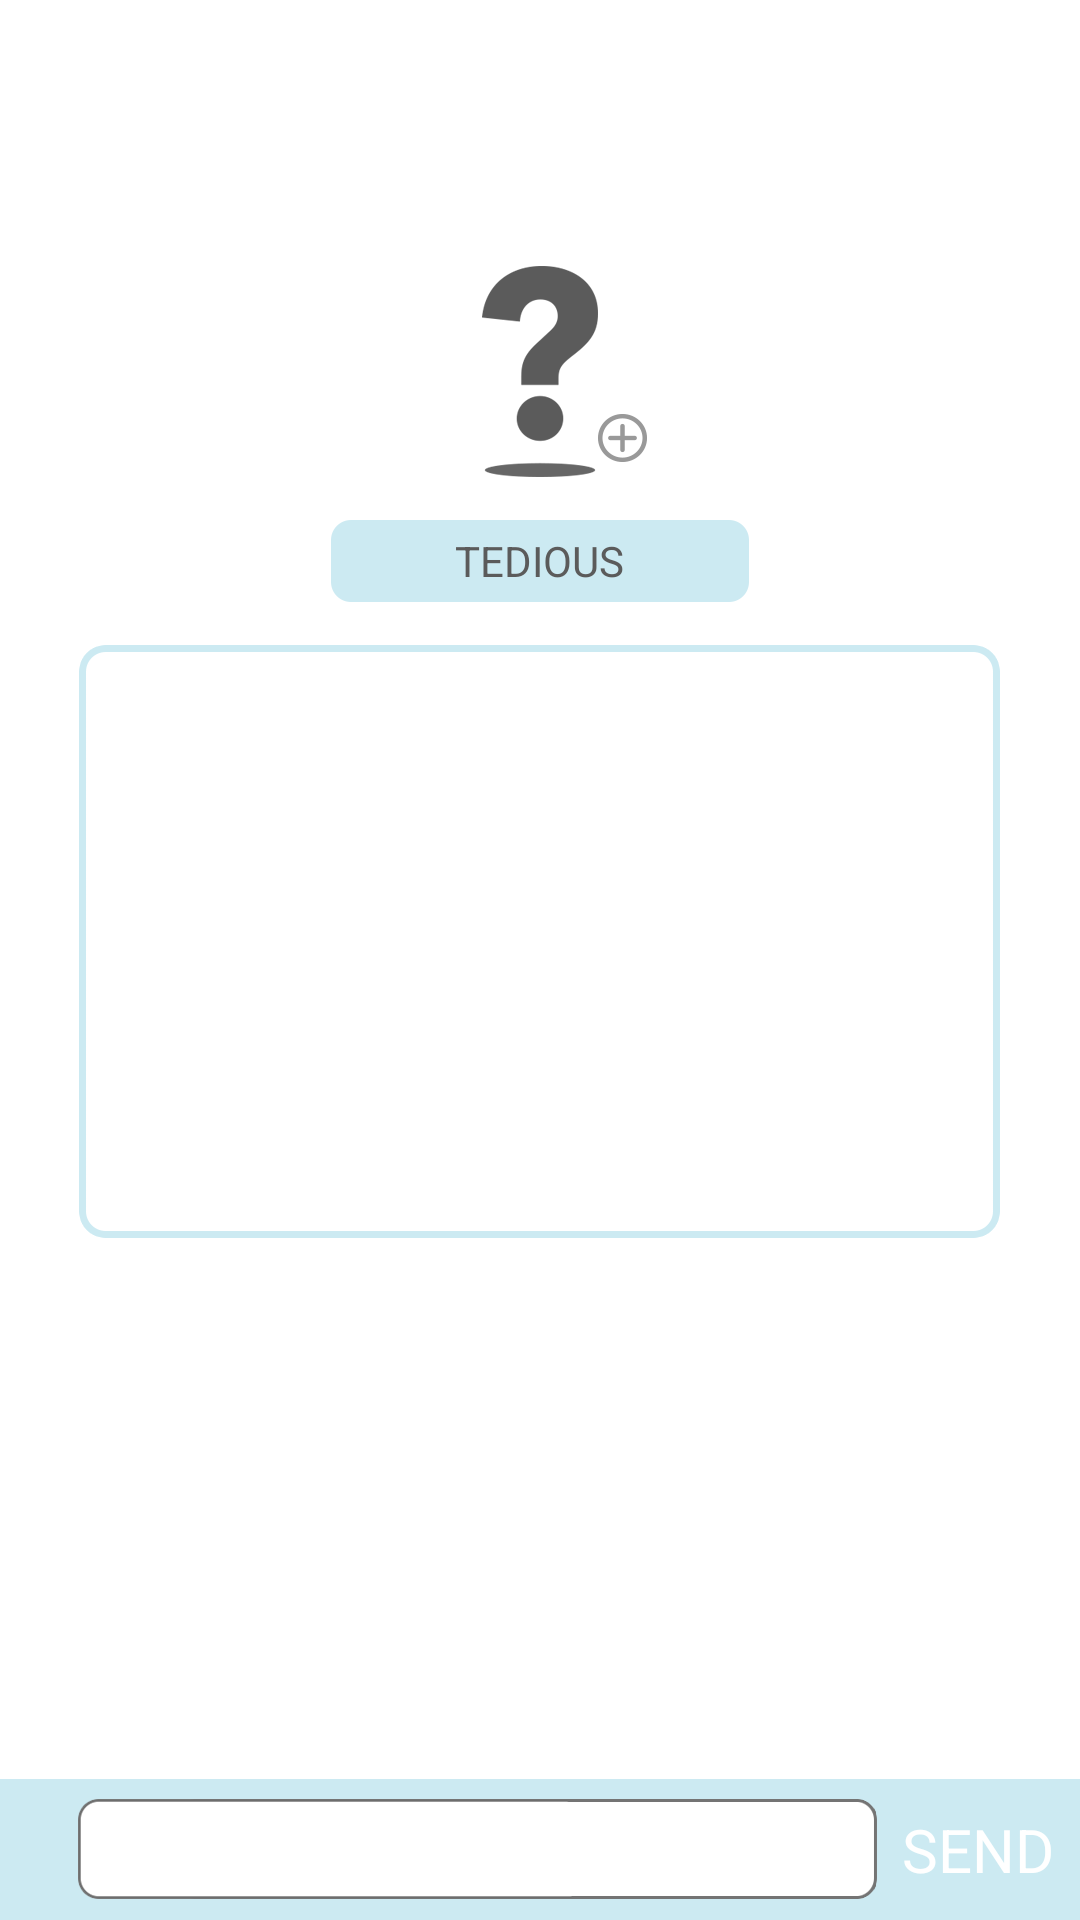

Screen size 1080 × 1920. Icon name, then its box in pixels as (x1,y1,x2,y2):
plus: (598,414,647,462)
